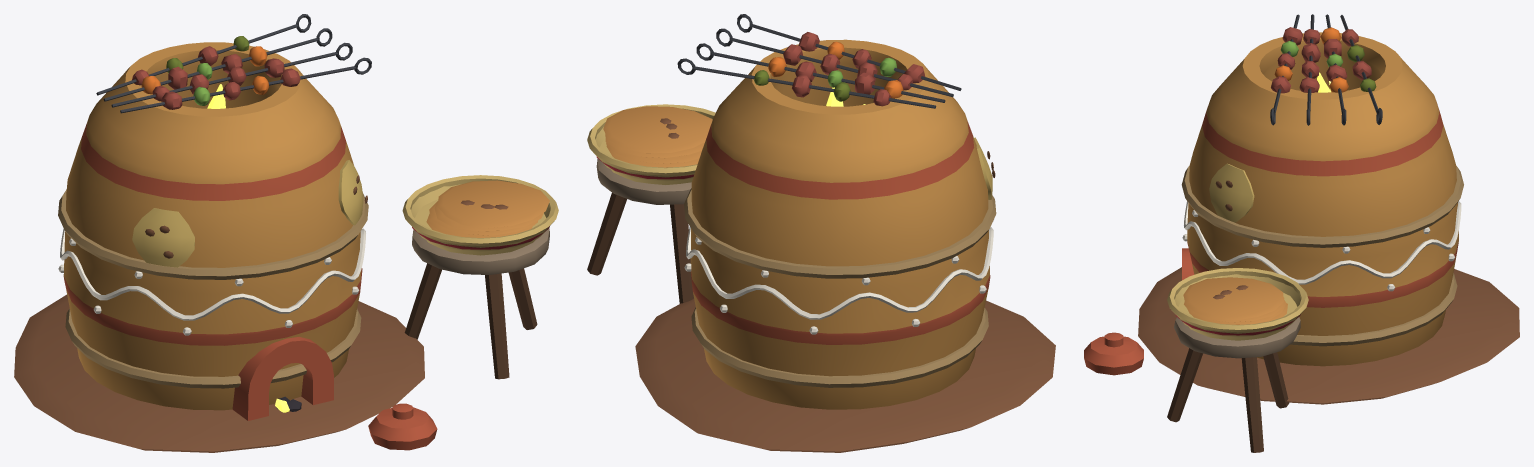
The model's file is deco_tandoor.fbx.
3 views of the same model, side by side, from view 1: azimuth 30°, elevation 25°; view 2: azimuth 150°, elevation 25°; view 3: azimuth 270°, elevation 25° (orthographic). The views are drawn at different scales.
Parts seen in each view (by area): view 1: Tandoor_Oven, Tandoor_Flatbreads, Tandoor_Skewers, Tandoor_Glow; view 2: Tandoor_Oven, Tandoor_Flatbreads, Tandoor_Skewers; view 3: Tandoor_Oven, Tandoor_Flatbreads, Tandoor_Skewers.
Part boxes in pixels (<box>): Tandoor_Oven: <box>14,42,437,452</box>; Tandoor_Flatbreads: <box>132,160,558,379</box>; Tandoor_Skewers: <box>96,14,371,113</box>; Tandoor_Glow: <box>207,84,301,412</box>; Tandoor_Oven: <box>635,39,1055,452</box>; Tandoor_Flatbreads: <box>587,104,995,303</box>; Tandoor_Skewers: <box>677,14,961,108</box>; Tandoor_Oven: <box>1084,32,1519,404</box>; Tandoor_Flatbreads: <box>1167,163,1308,452</box>; Tandoor_Skewers: <box>1270,14,1382,125</box>.
Size of the model in its own units: 201 by 126 by 179.
